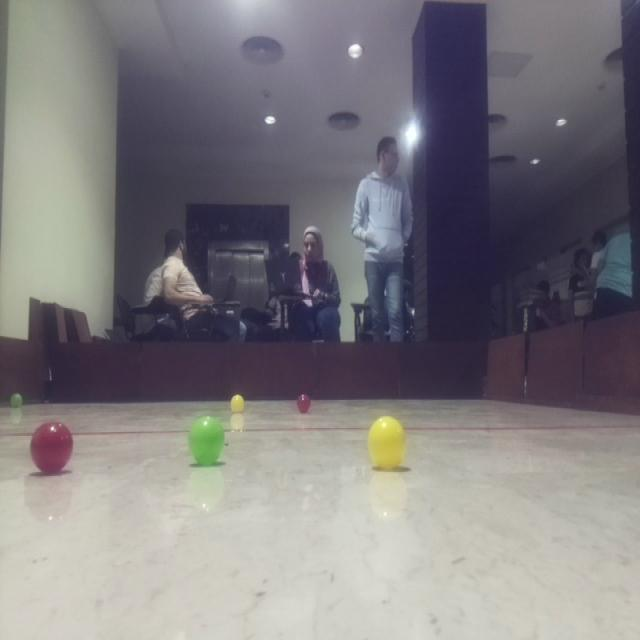ball: (31, 416, 74, 478), (365, 414, 407, 472), (189, 411, 227, 468), (293, 390, 315, 415), (225, 392, 248, 415), (6, 390, 30, 412)
